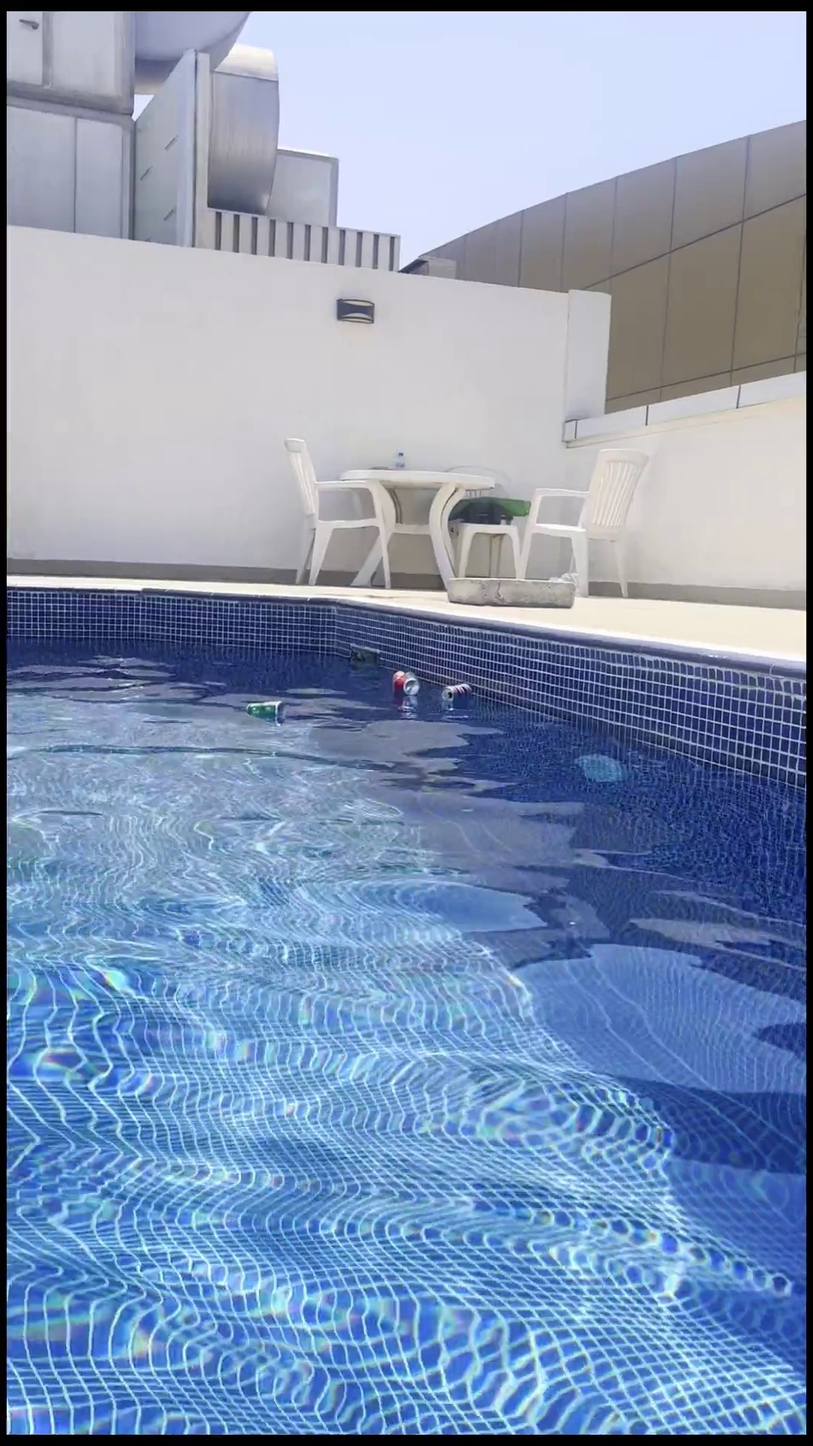debris: (238, 682, 288, 735), (434, 664, 470, 727), (386, 660, 419, 717)
